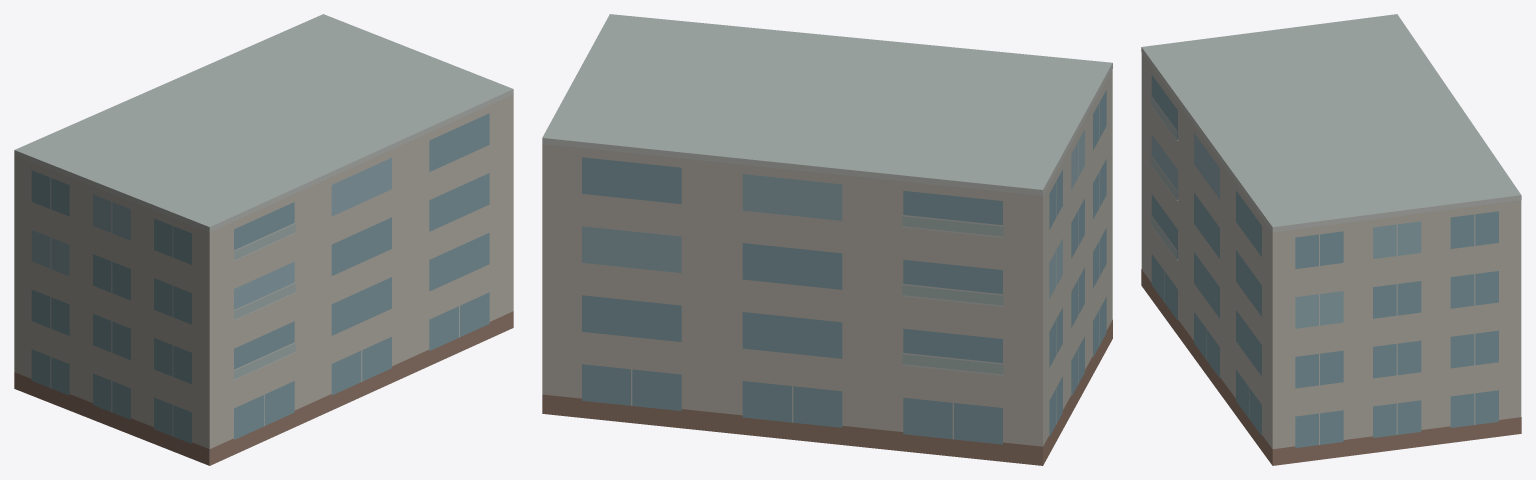
The model's file is survey-upis-32771205.glb.
3 views of the same model, side by side, from view 1: azimuth 30°, elevation 25°; view 2: azimuth 150°, elevation 25°; view 3: azimuth 270°, elevation 25° (orthographic). The views are drawn at different scales.
Visible parts, largest first — view 1: survey-upis-32771205.tmp; view 2: survey-upis-32771205.tmp; view 3: survey-upis-32771205.tmp.
Part boxes in pixels (x1,y1,x2,y2): survey-upis-32771205.tmp: (14,14,513,465); survey-upis-32771205.tmp: (542,14,1112,465); survey-upis-32771205.tmp: (1141,14,1521,465).
Bounding box in the file's own units: 21.47 × 11.2 × 16.17.
